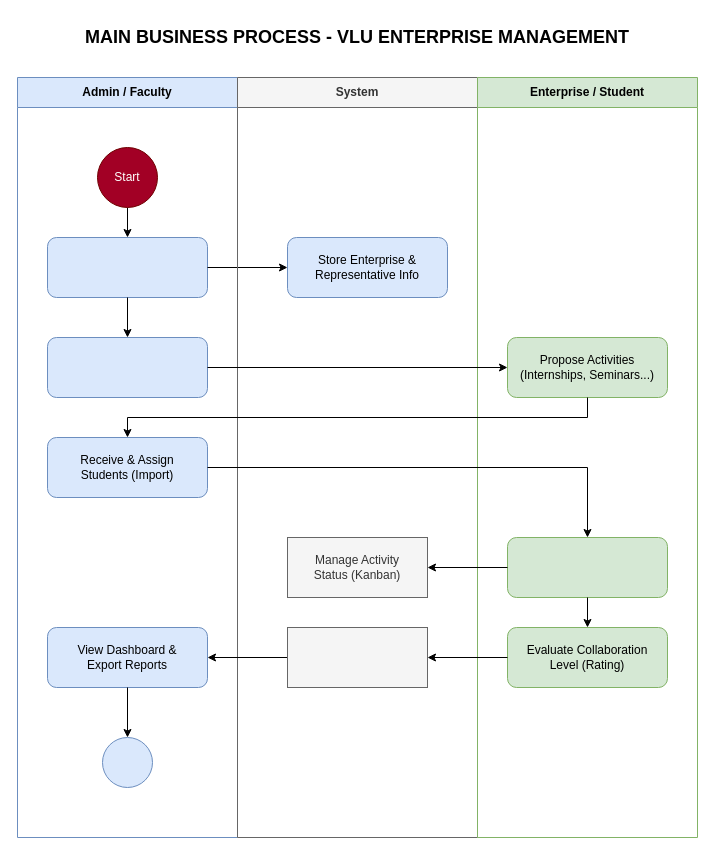
This 715x855 diagram has some shape labels left out. Each missing label, with the centre of its shape:
"Add / Import Enterprise" goes at point 127,267.
"Aggregate Data & Statistical Analysis" goes at point 357,657.
"End" goes at point 127,762.
"Participate in Activities / Internships" goes at point 587,567.
"Sign Agreement (MOU)" goes at point 127,367.
